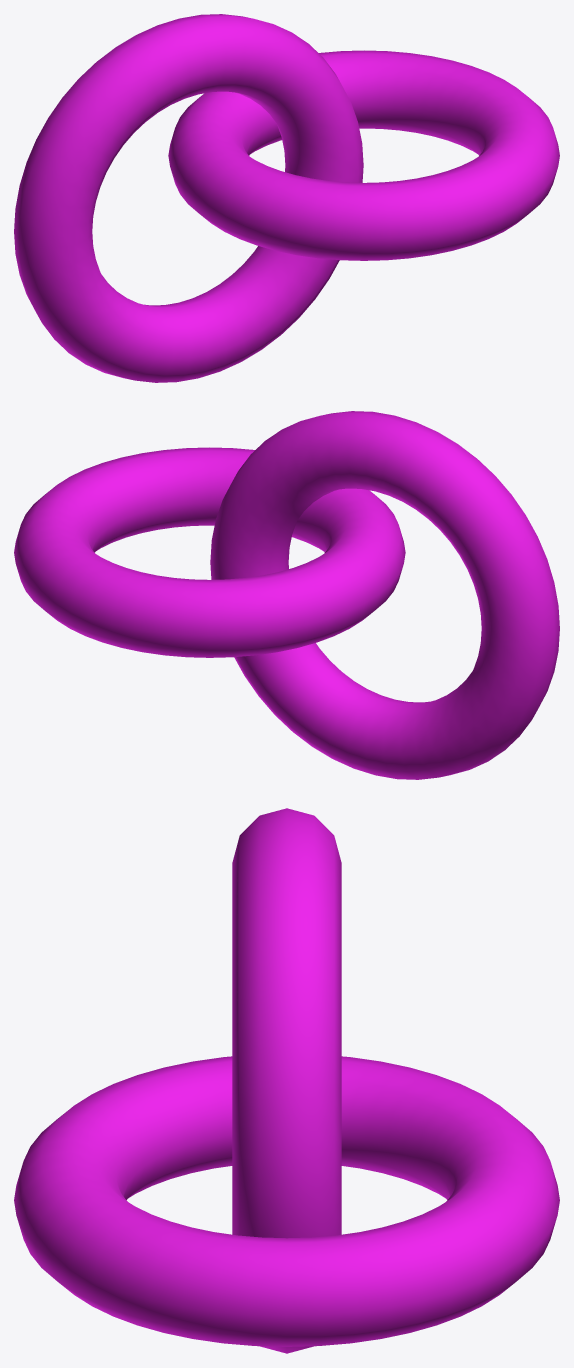
File: Ringtest_6.glb
3 views of the same model, one above another, from view 1: azimuth 30°, elevation 25°; view 2: azimuth 150°, elevation 25°; view 3: azimuth 270°, elevation 25° (orthographic). The views are drawn at different scales.
Parts seen in each view (by area): view 1: Torus.001; view 2: Torus.001; view 3: Torus.001.
Boxes of the visible parts, bbox=[...] form: Torus.001: bbox=[14, 14, 559, 382]; Torus.001: bbox=[14, 411, 559, 779]; Torus.001: bbox=[14, 808, 559, 1353].
Size of the model in its own units: 0.6029 by 0.3974 by 0.3974.
